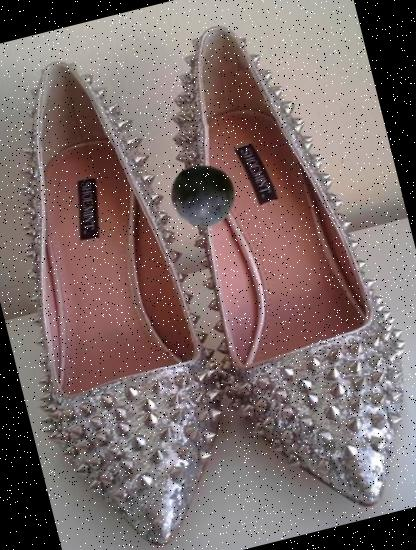Plum: (164, 156, 244, 234)
